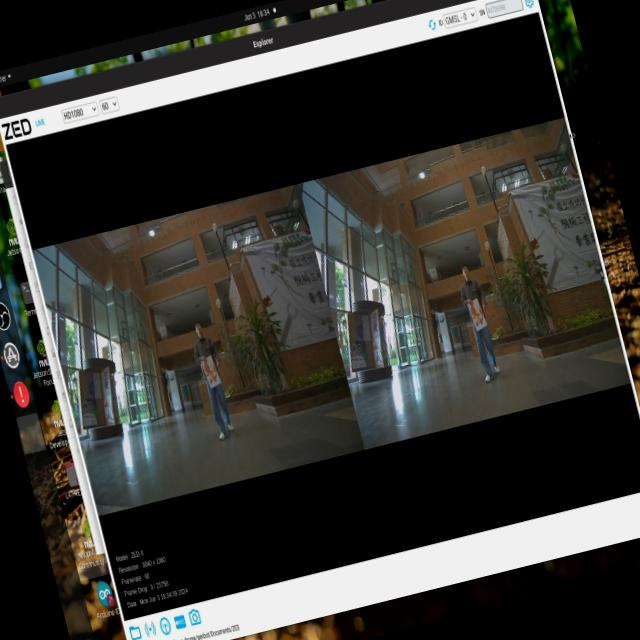red: (202, 357, 223, 390), (466, 296, 486, 330)
